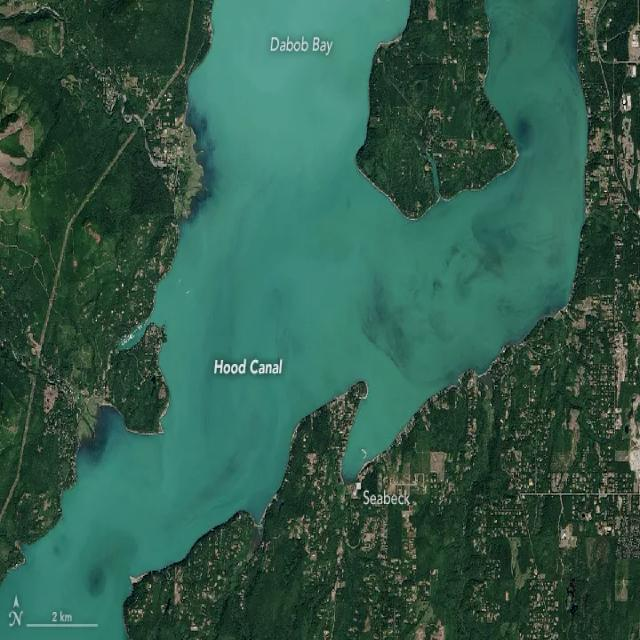algal: (0, 0, 586, 639)
